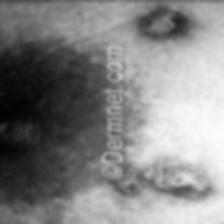Non-Cancerous Skin Condition: (132, 123, 213, 224), (123, 0, 213, 45), (98, 178, 136, 206)
